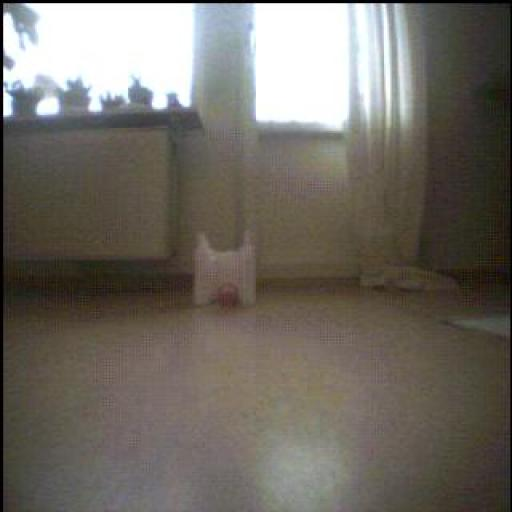Basket: (217, 284, 239, 308)
